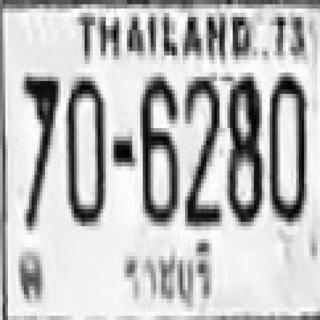N00: (63, 73, 103, 222), (267, 72, 304, 218)
N02: (182, 75, 220, 224)
N06: (140, 73, 177, 222)
N07: (21, 73, 58, 226), (21, 72, 58, 179)
N08: (225, 73, 259, 222)
P52: (111, 232, 220, 320)
